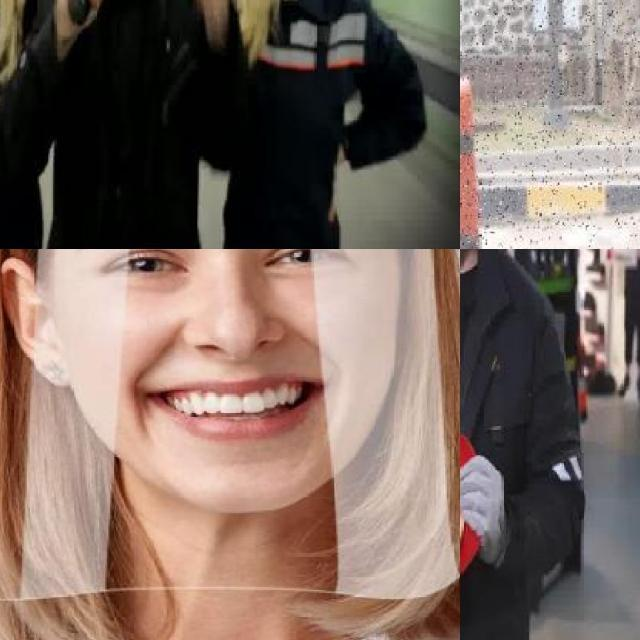apron: (460, 455, 506, 564)
